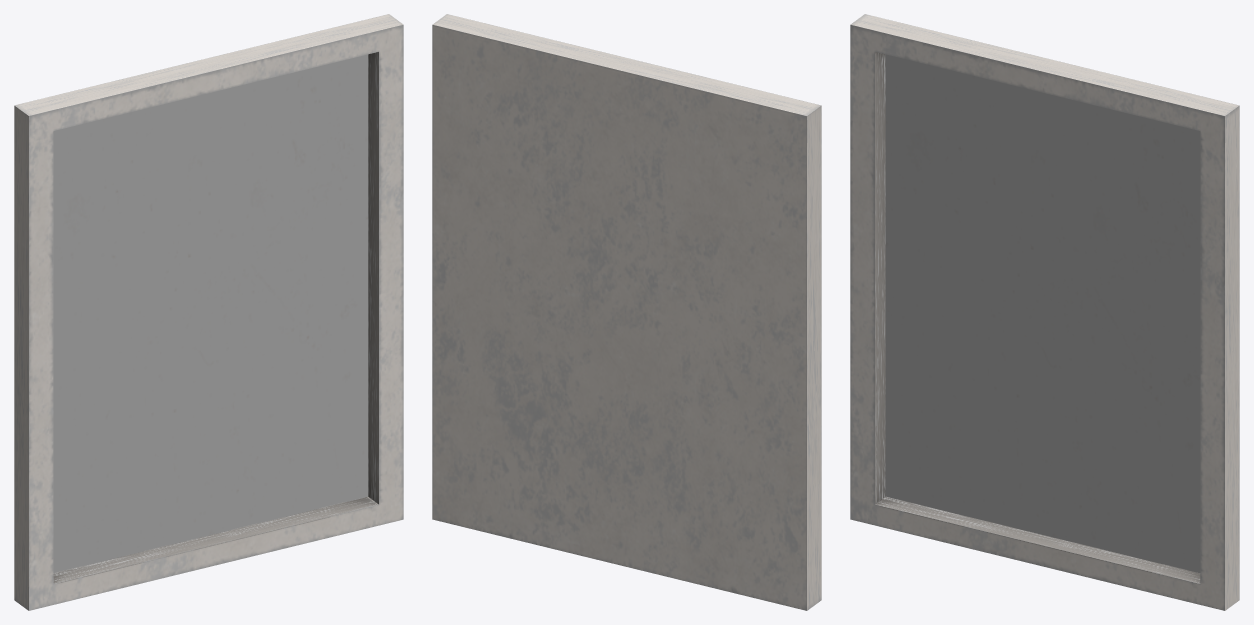
File: bath4.glb
3 views of the same model, side by side, from view 1: azimuth 30°, elevation 25°; view 2: azimuth 150°, elevation 25°; view 3: azimuth 330°, elevation 25° (orthographic).
Parts seen in each view (by area): view 1: Object_2; view 2: Object_2; view 3: Object_2.
Boxes of the visible parts, x1=… form: Object_2: x1=14, y1=14, x2=403, y2=610; Object_2: x1=432, y1=14, x2=821, y2=610; Object_2: x1=850, y1=14, x2=1239, y2=610.
Size of the model in its own units: 0.5253 by 0.6627 by 0.0357.
1 material, 1 textured.
